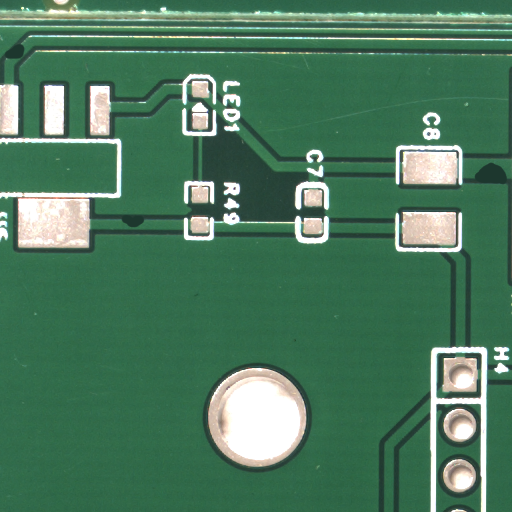Mouse_bite: (133, 219, 162, 237), (13, 50, 40, 69), (489, 170, 512, 191)
